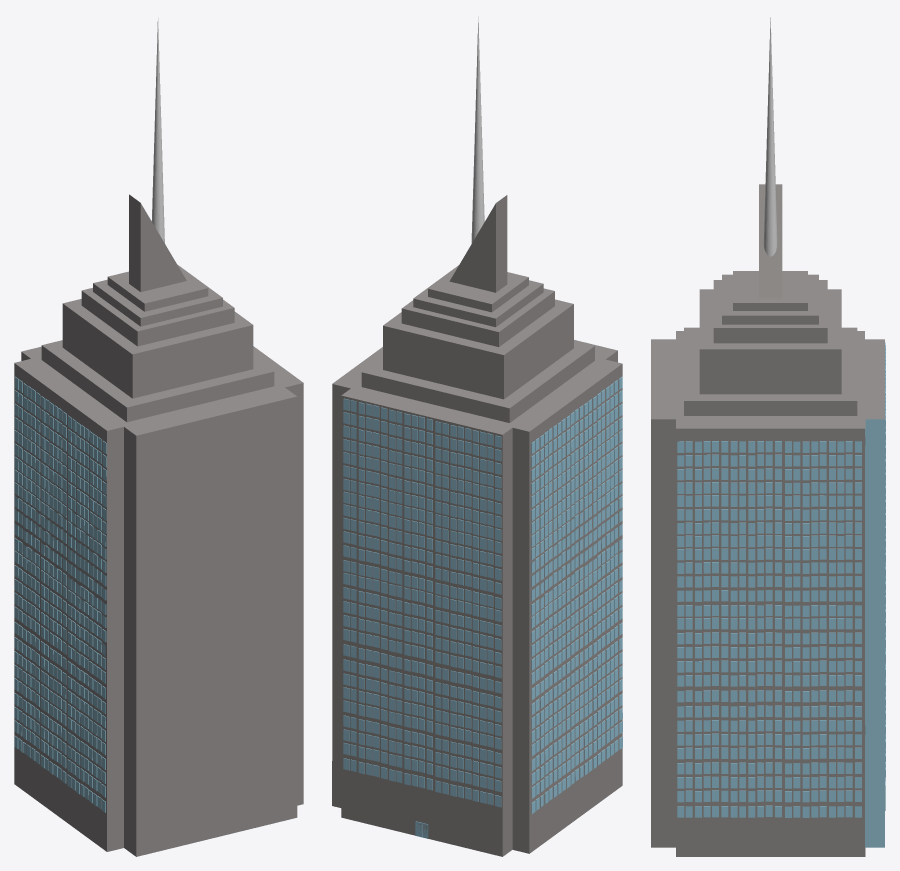
Rendered from biig skyscraper.fbx.
The picture shows the model from 3 angles, left to right: view 1: azimuth 30°, elevation 25°; view 2: azimuth 150°, elevation 25°; view 3: azimuth 270°, elevation 25°; orthographic projection.
Parts seen in each view (by area): view 1: Cube.001, Cube, Cono; view 2: Cube.001, Cube, Cono; view 3: Cube.001, Cube, Cono.
Part boxes in pixels (<box>): Cube.001: <box>14,194,303,856</box>; Cube: <box>14,376,106,812</box>; Cono: <box>151,18,164,243</box>; Cube.001: <box>332,195,622,856</box>; Cube: <box>343,376,622,838</box>; Cono: <box>471,16,484,243</box>; Cube.001: <box>651,184,884,856</box>; Cube: <box>677,342,885,847</box>; Cono: <box>763,17,777,256</box>.
Size of the model in its own units: 1482 by 5558 by 1490.
